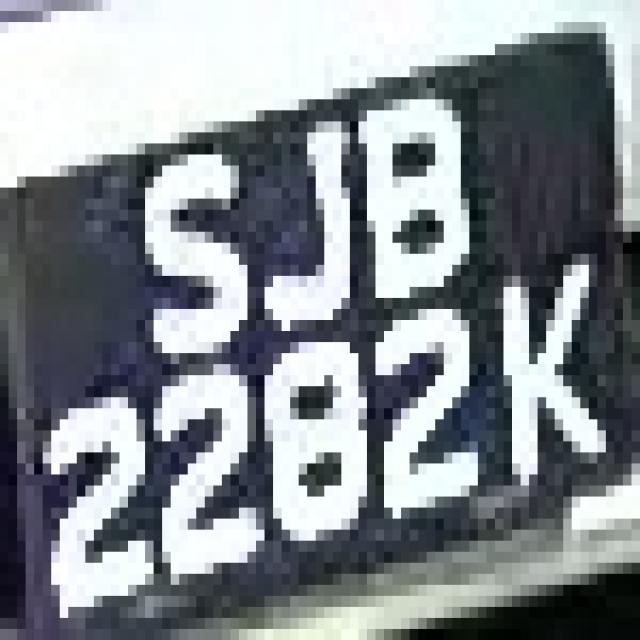2: (26, 386, 188, 596), (136, 342, 264, 563), (367, 320, 486, 530)
8: (264, 331, 392, 585)
B: (333, 77, 503, 298)
J: (222, 88, 358, 342)
K: (478, 242, 606, 508)
S: (111, 132, 256, 376)
